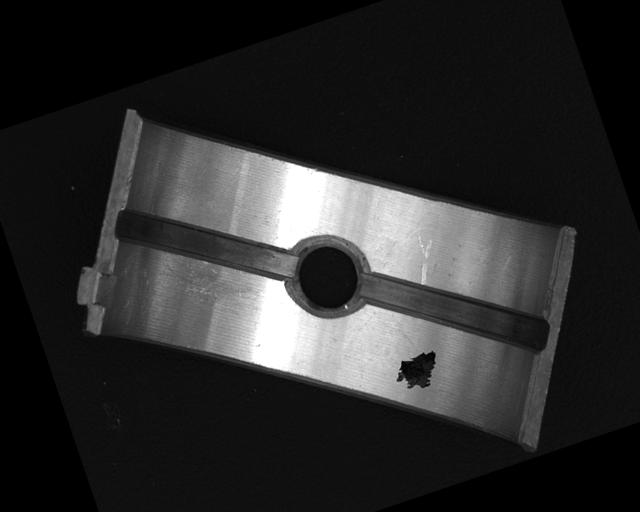blot: (390, 348, 445, 396)
gap: (358, 224, 552, 397), (106, 163, 299, 323)
hole: (276, 223, 377, 328)
nick: (405, 231, 446, 288)
scratch: (153, 233, 258, 324)
